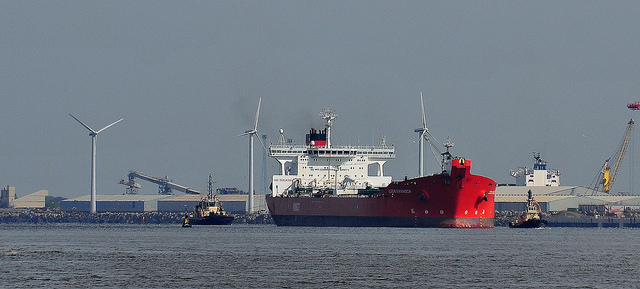tanker: (262, 113, 495, 226)
tug_boat: (189, 181, 233, 224), (512, 193, 550, 228)
